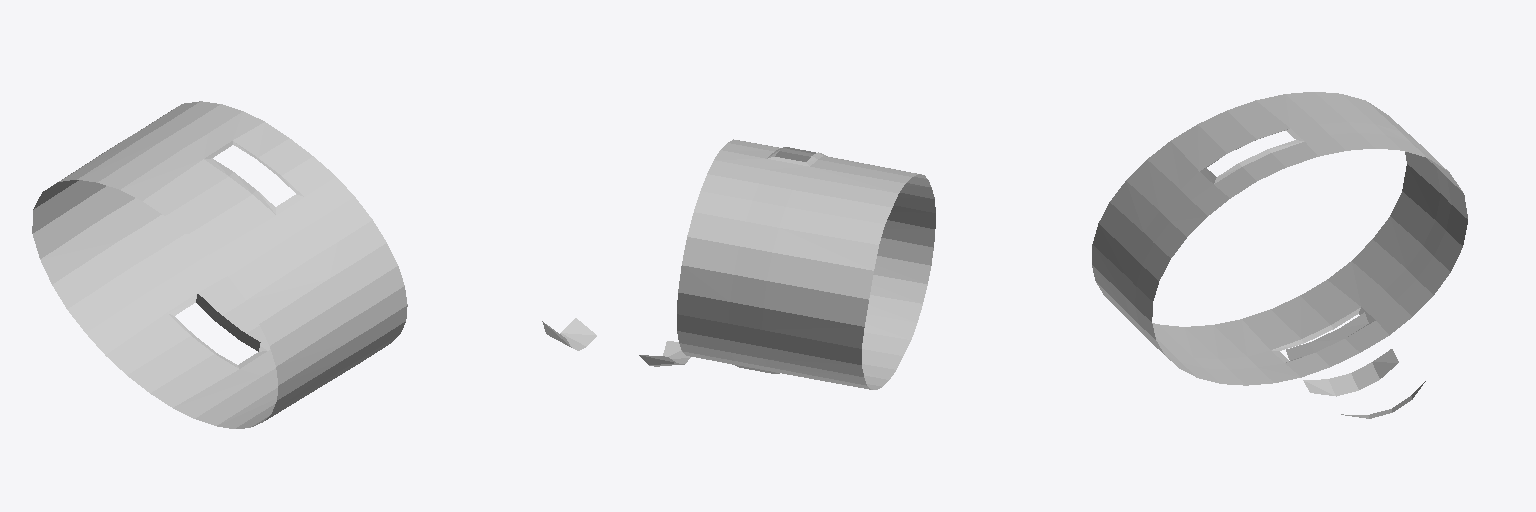
File: swordeco1.obj
3 renders of one model, left to right at view 1: azimuth 30°, elevation 25°; view 2: azimuth 150°, elevation 25°; view 3: azimuth 270°, elevation 25°, orthographic.
Parts seen in each view (by area): view 1: swordeco1; view 2: swordeco1; view 3: swordeco1.
Boxes of the visible parts, x1,y1,x2,y2 form: swordeco1: [32, 101, 407, 428]; swordeco1: [542, 139, 935, 389]; swordeco1: [1092, 92, 1467, 418].
Bounding box in the file's own units: 5.68 × 3.86 × 5.71.